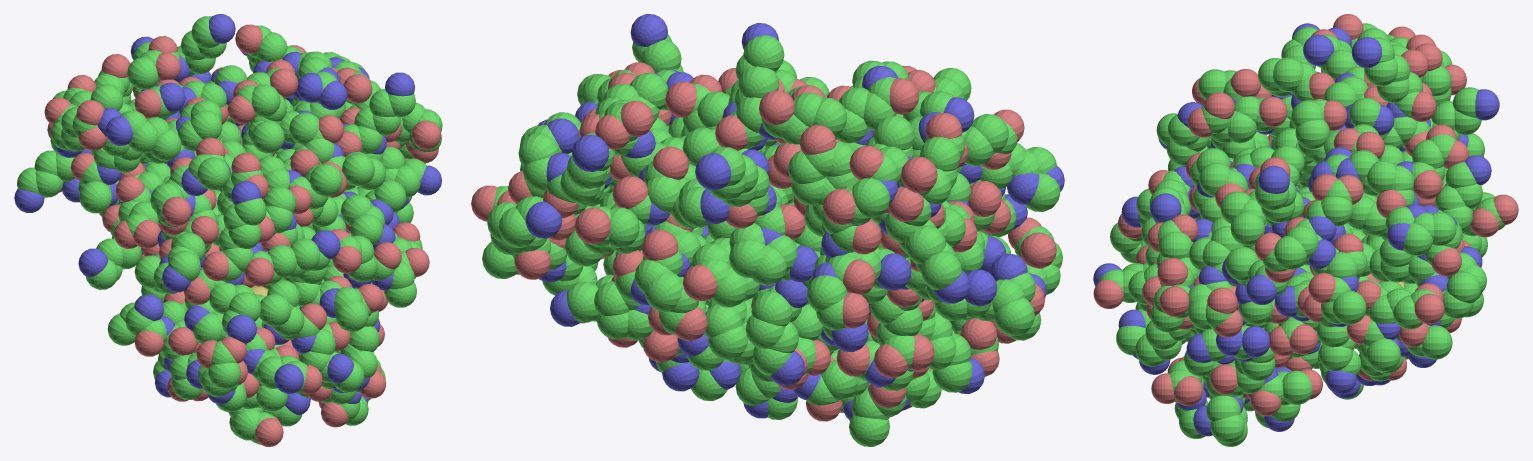
The model's file is 1mbn__spheres__default.glb.
3 views of the same model, side by side, from view 1: azimuth 30°, elevation 25°; view 2: azimuth 150°, elevation 25°; view 3: azimuth 270°, elevation 25° (orthographic). The views are drawn at different scales.
Parts seen in each view (by area): view 1: Renderer Node; view 2: Renderer Node; view 3: Renderer Node.
Part boxes in pixels (x1=…): Renderer Node: x1=14, y1=14, x2=442, y2=446; Renderer Node: x1=471, y1=14, x2=1064, y2=446; Renderer Node: x1=1093, y1=14, x2=1518, y2=446.
Size of the model in its own units: 45.93 by 42.13 by 41.97.
